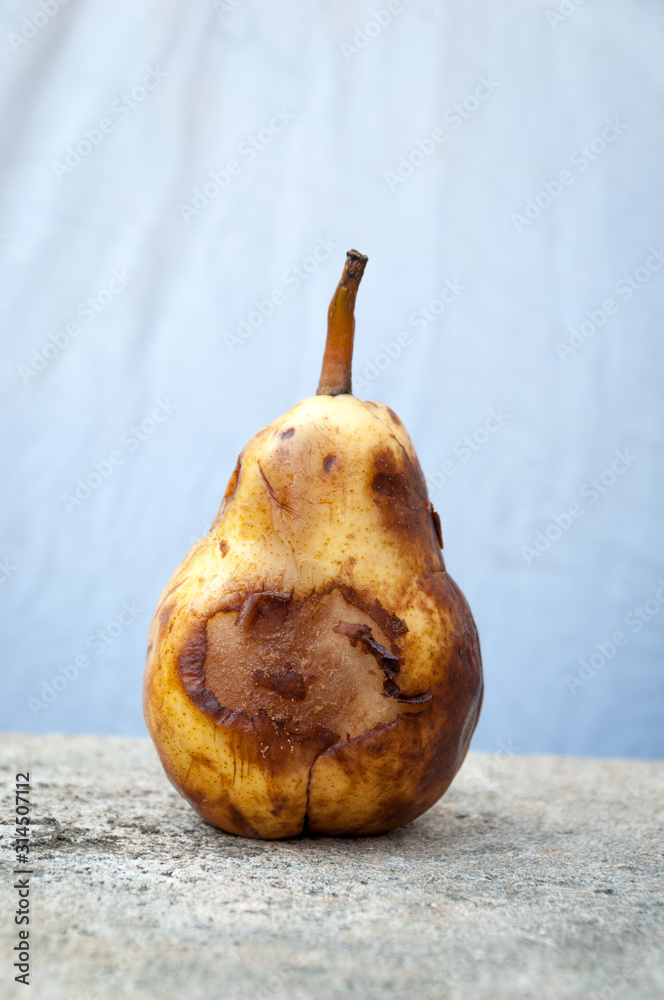pear: (142, 394, 483, 846)
rotten: (172, 583, 446, 744)
